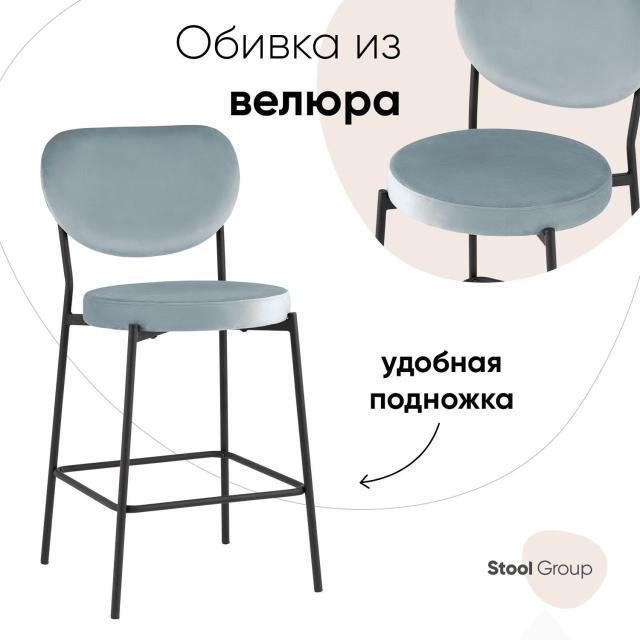chair: (35, 120, 326, 620), (384, 0, 638, 226), (44, 121, 296, 326)
